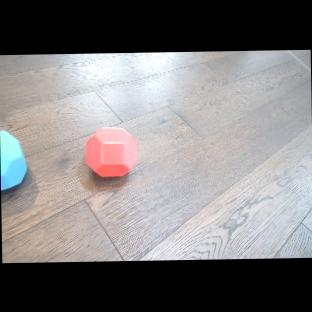V5_BLUE: (0, 128, 27, 191)
V5_RED: (84, 126, 137, 177)
